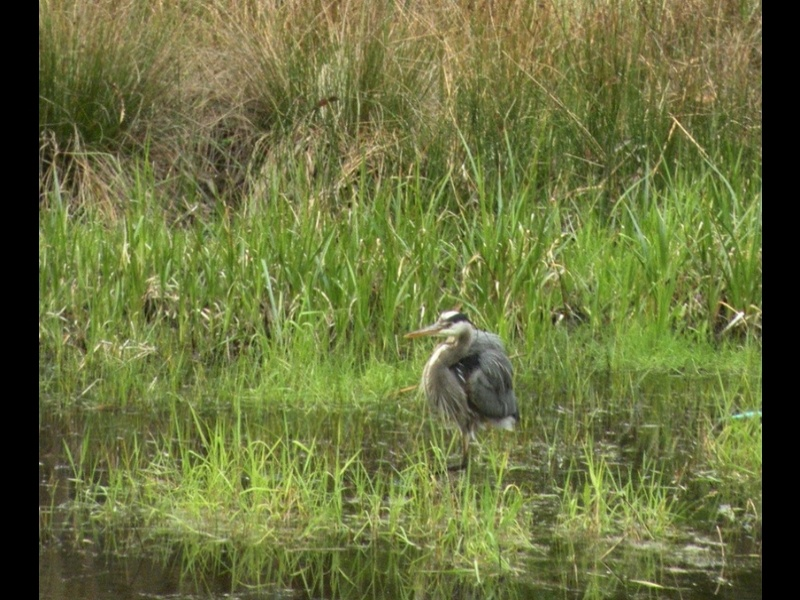heron: (402, 309, 519, 461)
